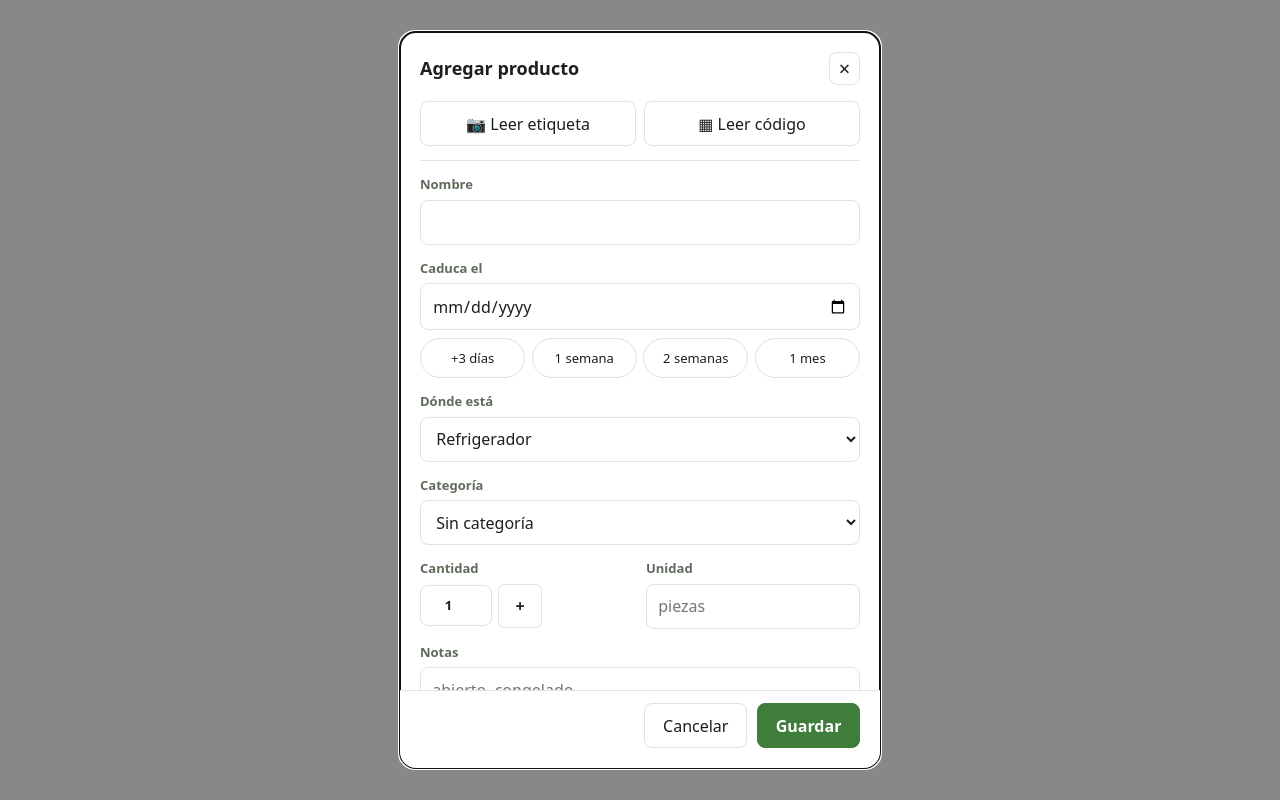
Test: ProductForm name suggestions › fills category and location once the typed name exactly matches, on blur
This screenshot has width=1280, height=800.
Type "  leche entera  " into the field labelled "Nombre" at (640, 222), box [420, 200, 860, 245]
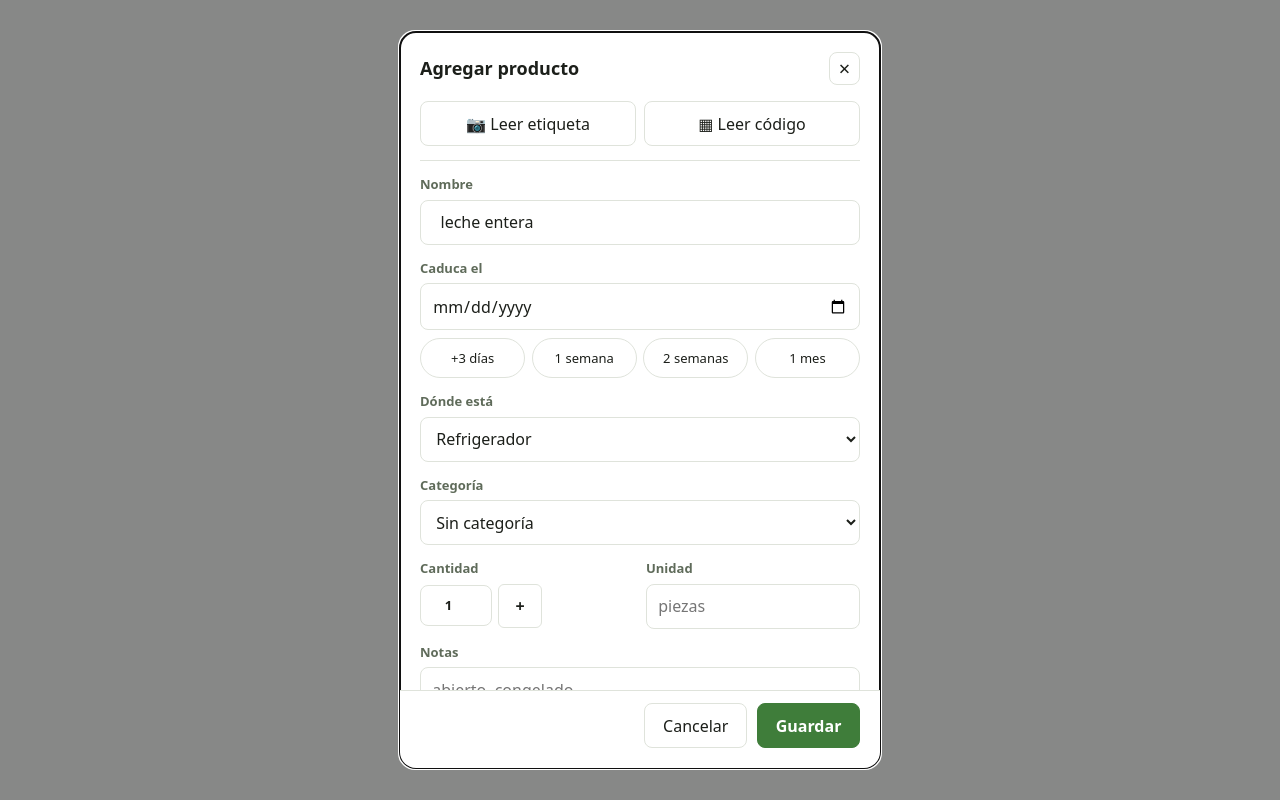
Leave the field labelled "Nombre", box [420, 200, 860, 245]
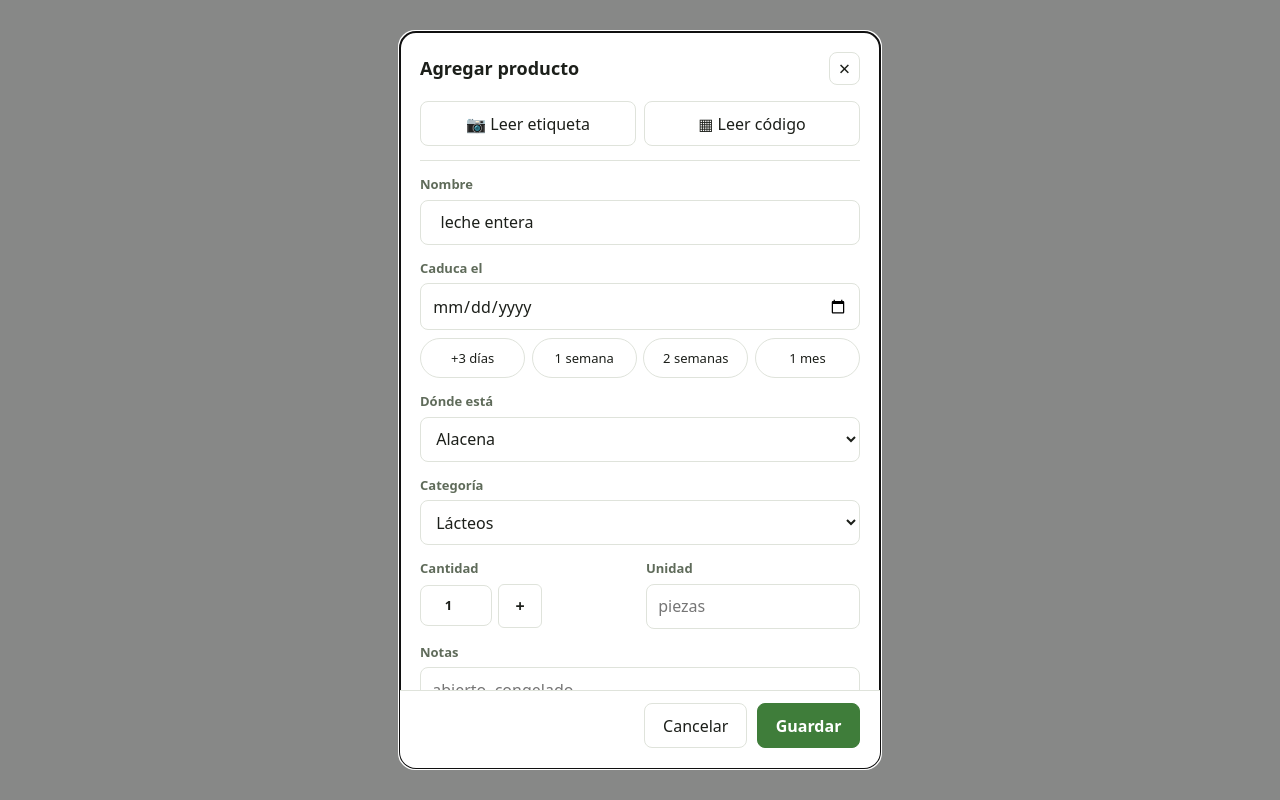
Result: the dropdown labelled "Categoría" shows "Lácteos" at [420, 500, 860, 545]
Result: the dropdown labelled "Dónde está" shows "Alacena" at [420, 417, 860, 462]
